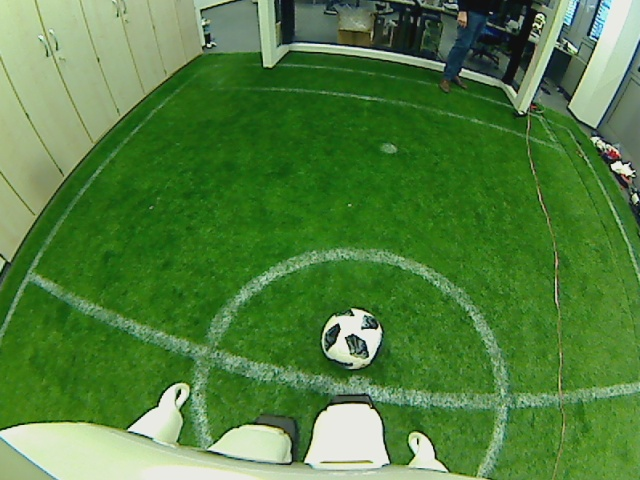ball: (318, 306, 383, 369)
